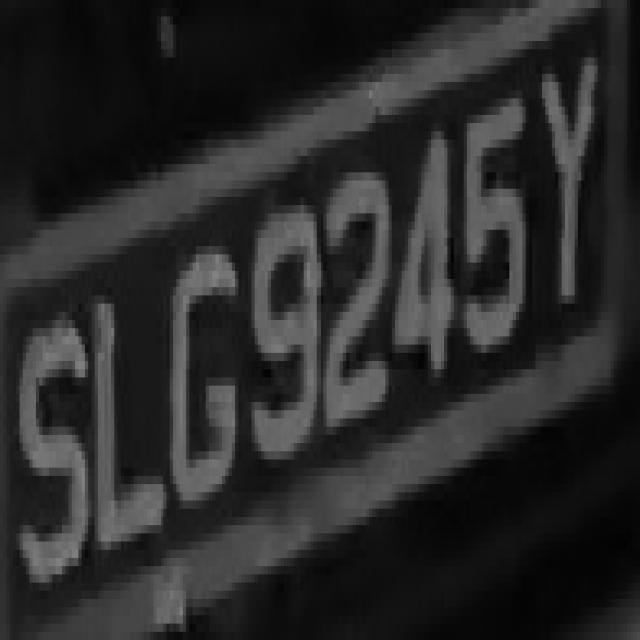2: (320, 139, 392, 476)
4: (378, 82, 464, 402)
5: (467, 74, 526, 402)
9: (248, 188, 320, 468)
G: (170, 229, 251, 542)
L: (88, 262, 160, 574)
S: (13, 287, 88, 599)
Y: (522, 33, 610, 312)
